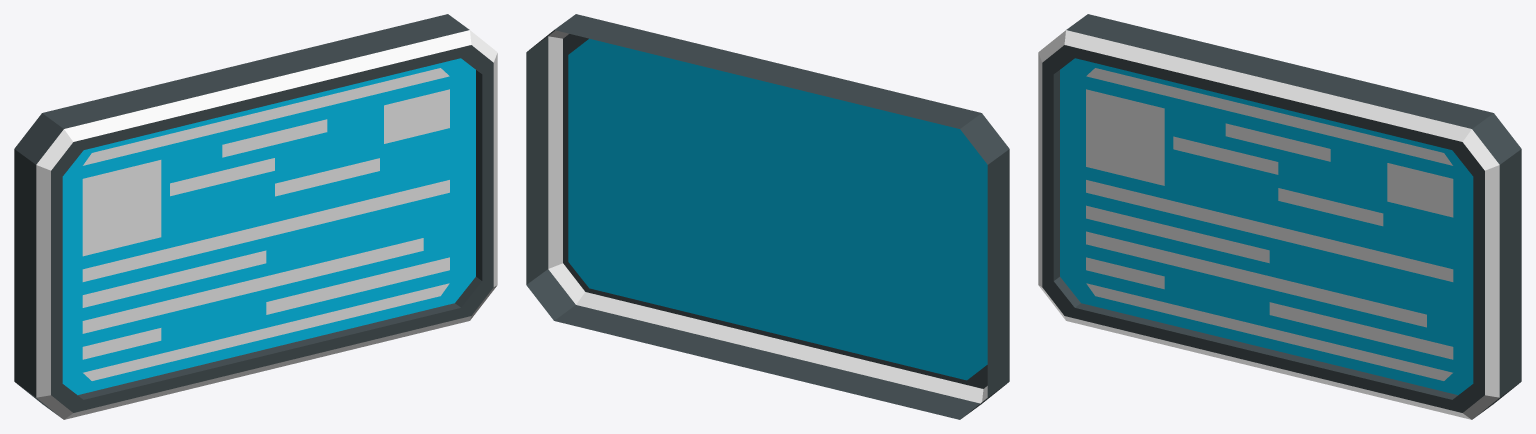
File: Notice Screen 01.fbx
The picture shows the model from 3 angles, left to right: view 1: azimuth 30°, elevation 25°; view 2: azimuth 150°, elevation 25°; view 3: azimuth 330°, elevation 25°; orthographic projection.
Visible parts, largest first — view 1: Notice_Screen_01; view 2: Notice_Screen_01; view 3: Notice_Screen_01.
Part boxes in pixels (box(x1,y1,x2,y2)): Notice_Screen_01: box(14, 14, 497, 419); Notice_Screen_01: box(526, 14, 1009, 419); Notice_Screen_01: box(1038, 14, 1521, 419).
Bounding box in the file's own units: 240 × 145 × 24.66.
